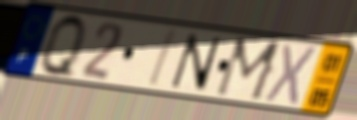2: (78, 21, 124, 83)
I: (145, 27, 180, 90)
M: (211, 35, 286, 104)
N: (169, 32, 223, 95)
Q: (38, 11, 88, 83)
X: (261, 41, 320, 109)
